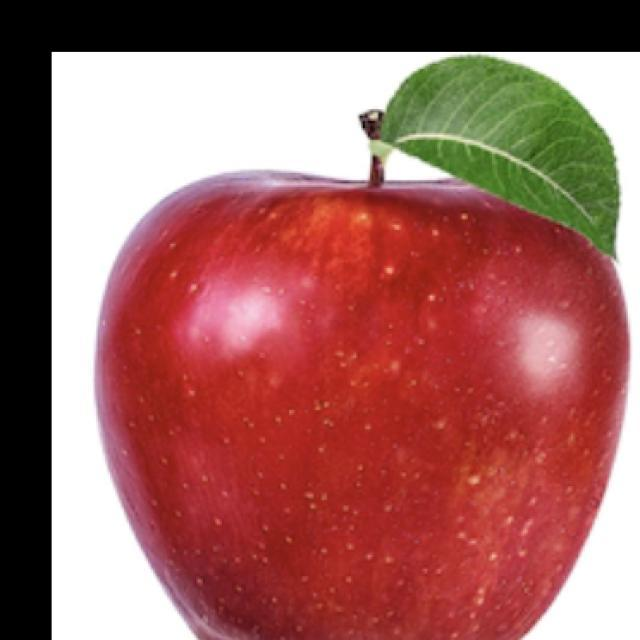Apple: (92, 113, 631, 639)
